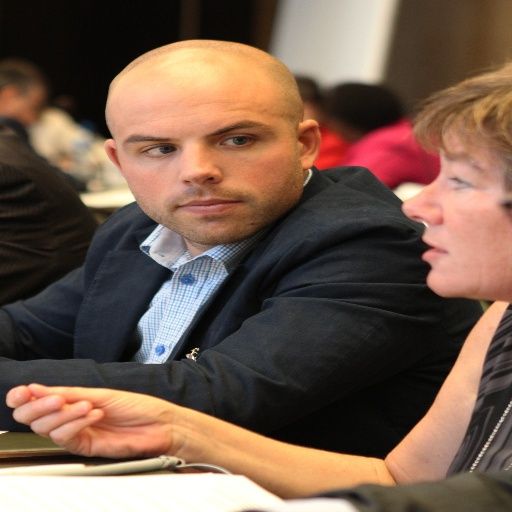hand: (5, 381, 180, 447)
